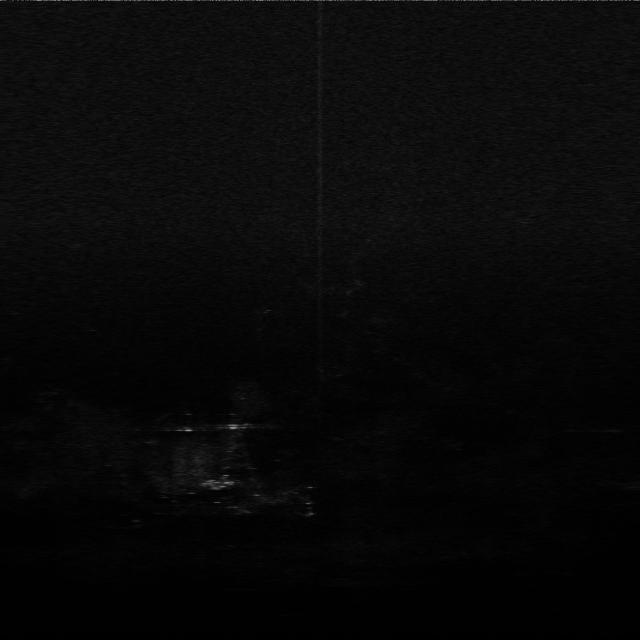rov: (202, 472, 239, 493)
